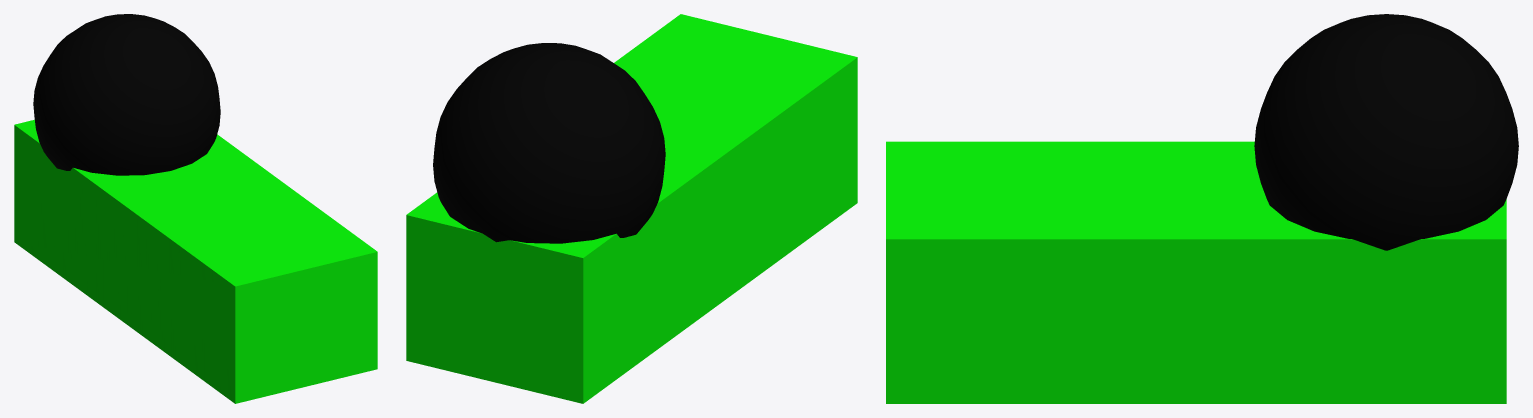
The model's file is foot1.obj.
3 renders of one model, left to right at view 1: azimuth 30°, elevation 25°; view 2: azimuth 150°, elevation 25°; view 3: azimuth 270°, elevation 25°, orthographic. The views are drawn at different scales.
Parts seen in each view (by area): view 1: pCube30 polySurface15, polySurface18 pCube30; view 2: pCube30 polySurface15, polySurface18 pCube30; view 3: pCube30 polySurface15, polySurface18 pCube30.
Part boxes in pixels (box(x1,y1,x2,y2)): pCube30 polySurface15: box(14, 120, 377, 403); polySurface18 pCube30: box(33, 14, 220, 175); pCube30 polySurface15: box(406, 14, 857, 403); polySurface18 pCube30: box(433, 43, 665, 243); pCube30 polySurface15: box(886, 141, 1506, 403); polySurface18 pCube30: box(1254, 14, 1518, 250).
Bounding box in the file's own units: 0.9387 × 1.28 × 2.25.
